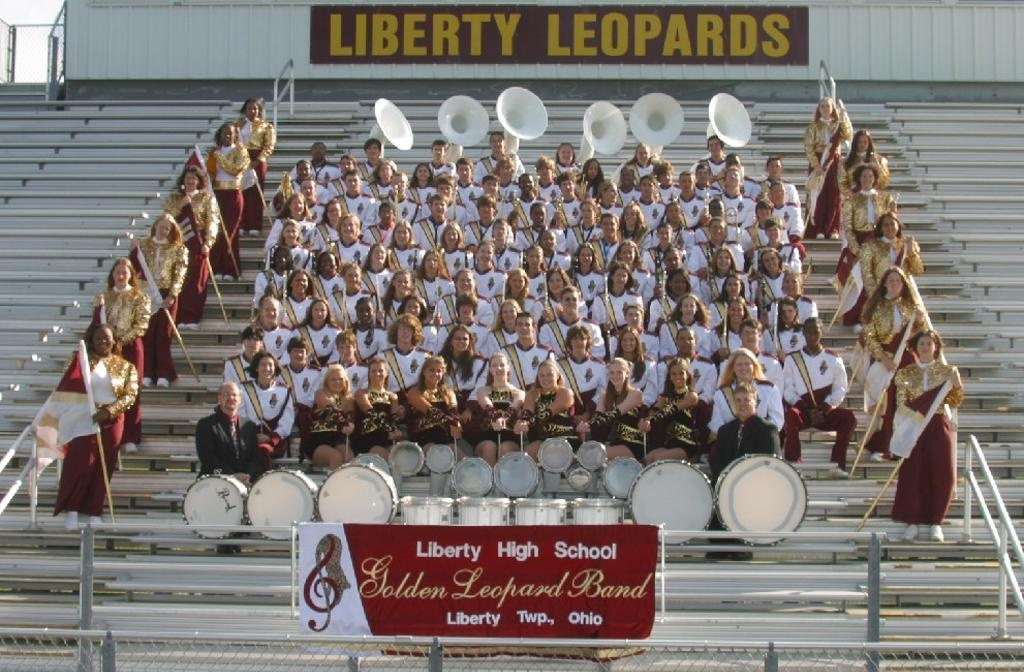human_face: (93, 326, 113, 352), (733, 354, 753, 378), (734, 391, 754, 415), (220, 384, 238, 408), (112, 263, 130, 285), (450, 329, 468, 351), (424, 361, 442, 383), (538, 366, 556, 388), (740, 325, 758, 347), (676, 330, 694, 352), (804, 321, 820, 345), (490, 355, 506, 378), (290, 272, 308, 292), (327, 370, 345, 390), (368, 362, 386, 382), (262, 300, 278, 322), (516, 317, 532, 339), (562, 292, 578, 314), (570, 330, 586, 352), (620, 331, 636, 353), (608, 363, 624, 385), (886, 272, 902, 294), (916, 335, 934, 354), (259, 356, 275, 377), (880, 216, 898, 234), (356, 302, 372, 322), (458, 272, 474, 292), (394, 274, 410, 294), (404, 298, 420, 318), (547, 272, 563, 292), (664, 250, 680, 270), (670, 365, 686, 385), (477, 244, 491, 266), (602, 216, 616, 238), (340, 218, 356, 237), (344, 268, 360, 286), (154, 219, 170, 237), (242, 337, 260, 353), (290, 347, 306, 365), (338, 341, 354, 359), (431, 199, 447, 217), (396, 324, 412, 342), (708, 201, 724, 219), (762, 252, 778, 270), (312, 300, 326, 320), (494, 220, 508, 240), (710, 219, 724, 239), (671, 274, 685, 294), (726, 276, 740, 296), (784, 274, 798, 294), (729, 302, 743, 322), (220, 123, 234, 142), (527, 247, 541, 266), (478, 202, 494, 218), (510, 274, 526, 290), (626, 308, 642, 324), (858, 169, 874, 185), (300, 181, 314, 199), (290, 196, 304, 214), (327, 202, 341, 220), (378, 206, 392, 224), (394, 226, 408, 244), (372, 244, 386, 262), (321, 254, 335, 272), (284, 224, 298, 242), (489, 134, 503, 152), (502, 304, 516, 322), (558, 145, 572, 163), (640, 176, 654, 194), (667, 204, 681, 222), (621, 245, 635, 263), (613, 269, 627, 287), (716, 251, 730, 269), (682, 299, 696, 317), (624, 206, 636, 226), (542, 230, 554, 250), (678, 173, 692, 190), (604, 183, 616, 202), (391, 176, 405, 192), (275, 252, 289, 268), (456, 163, 470, 179), (484, 178, 498, 194), (438, 183, 452, 199), (531, 206, 545, 222), (580, 204, 594, 220), (578, 249, 592, 265), (694, 168, 708, 184), (768, 160, 782, 176), (770, 184, 784, 200), (764, 226, 780, 240), (780, 304, 794, 320), (424, 253, 436, 271), (637, 146, 649, 164), (520, 175, 534, 190), (296, 162, 310, 176), (459, 303, 473, 317), (560, 179, 574, 193), (658, 170, 672, 184), (706, 138, 720, 152), (725, 156, 739, 170), (756, 204, 770, 218), (246, 102, 258, 118), (346, 174, 358, 190), (184, 173, 196, 189), (536, 164, 552, 176), (444, 227, 456, 243), (620, 168, 632, 184), (657, 226, 669, 242), (726, 170, 738, 186), (586, 160, 596, 178), (312, 144, 324, 158), (340, 158, 354, 170), (416, 165, 428, 179), (499, 162, 511, 176), (819, 100, 831, 114), (858, 134, 868, 150), (378, 164, 390, 176), (366, 144, 376, 158), (432, 144, 442, 158)
